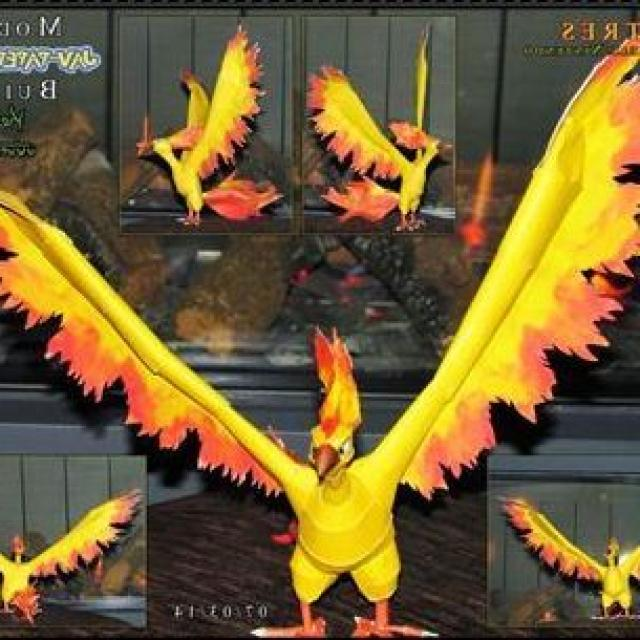Moltres: (201, 330, 486, 621), (133, 44, 254, 235), (323, 70, 449, 231)
